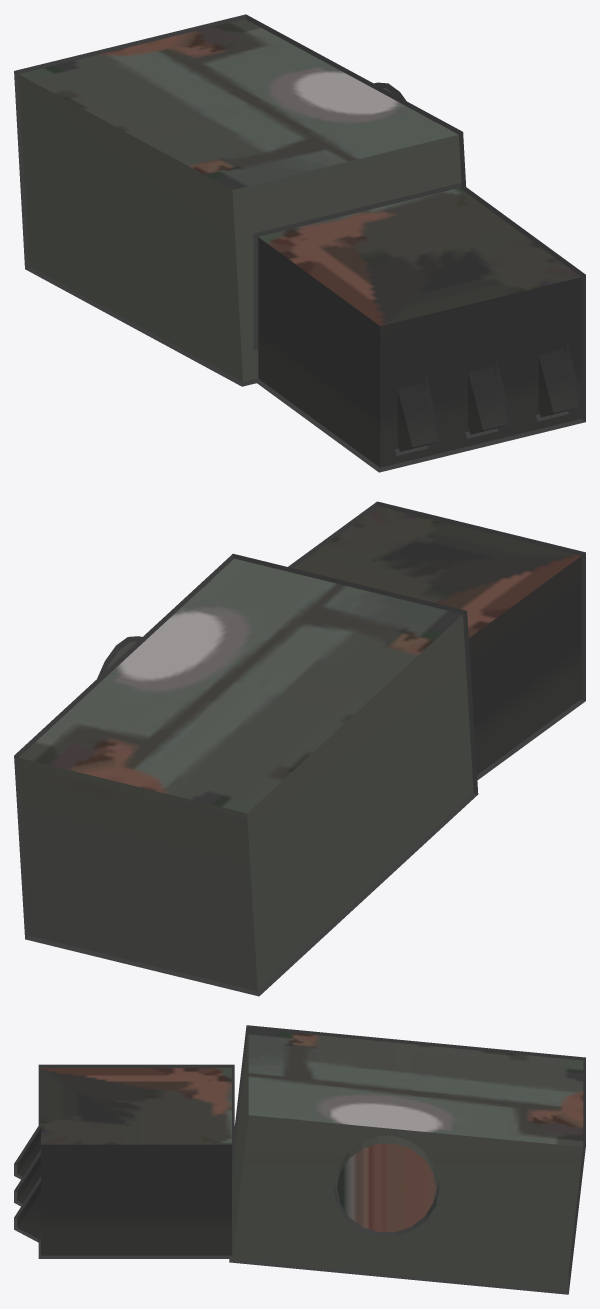
Rendered from Building_AncientWarwalkerClaw.glb.
3 views of the same model, one above another, from view 1: azimuth 30°, elevation 25°; view 2: azimuth 150°, elevation 25°; view 3: azimuth 270°, elevation 25° (orthographic). The views are drawn at different scales.
Visible parts, largest first — view 1: AncientWarwalkerClaw, Outline; view 2: AncientWarwalkerClaw, Outline; view 3: AncientWarwalkerClaw, Outline.
Part boxes in pixels (left/top/right/bottom): AncientWarwalkerClaw: left=18, top=19, right=581, bottom=467; Outline: left=14, top=14, right=585, bottom=472; AncientWarwalkerClaw: left=18, top=506, right=581, bottom=991; Outline: left=14, top=501, right=585, bottom=996; AncientWarwalkerClaw: left=17, top=1028, right=583, bottom=1291; Outline: left=14, top=1025, right=585, bottom=1294.
Size of the model in its own units: 0.7843 by 0.6869 by 1.97.
2 materials, 1 textured.
